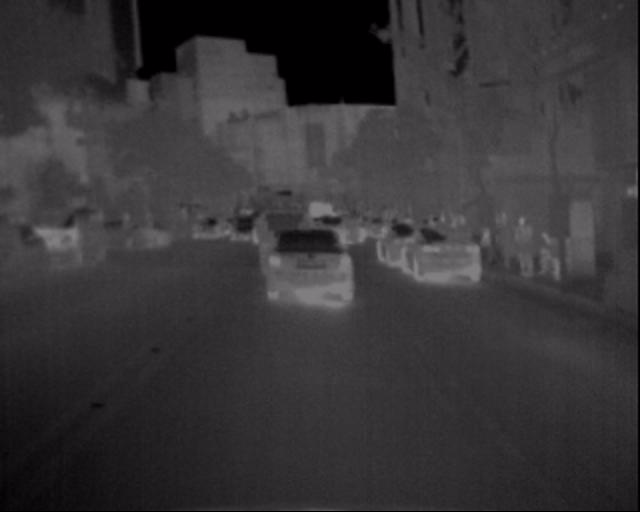person: (481, 194, 563, 284), (511, 206, 540, 283), (513, 207, 538, 286), (118, 208, 138, 257)
